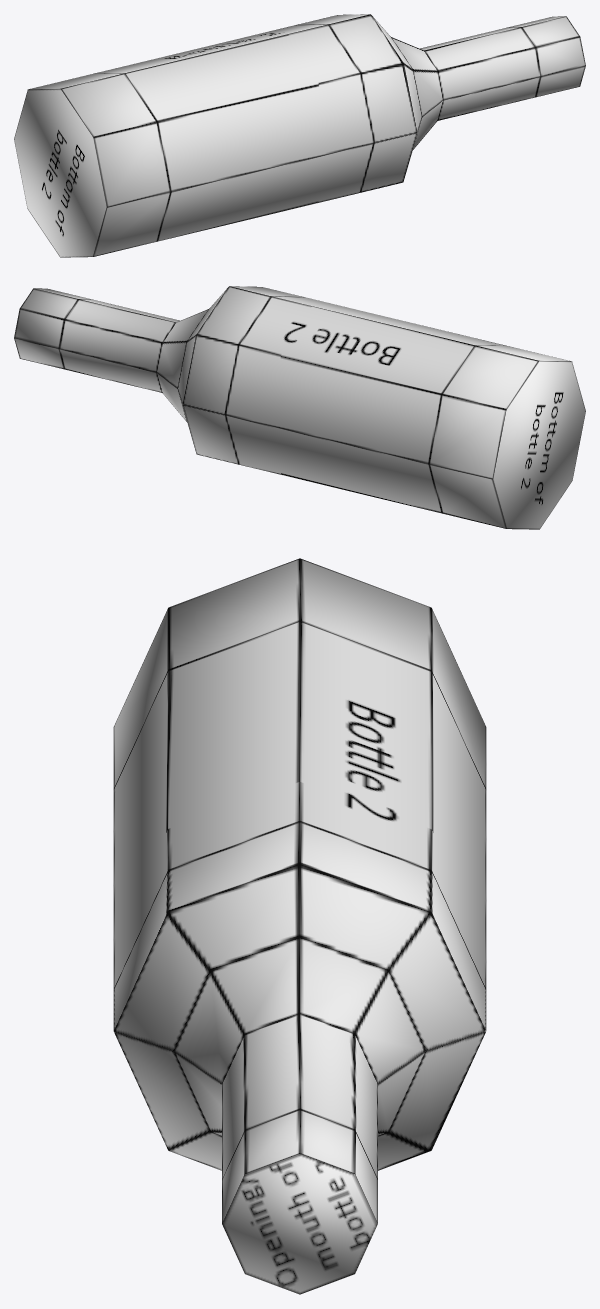
The model's file is Bottle02.fbx.
The picture shows the model from 3 angles, top to bottom: view 1: azimuth 30°, elevation 25°; view 2: azimuth 150°, elevation 25°; view 3: azimuth 270°, elevation 25°; orthographic projection. The views are drawn at different scales.
Visible parts, largest first — view 1: Bottle_02; view 2: Bottle_02; view 3: Bottle_02.
Part boxes in pixels (<box>): Bottle_02: <box>14,14,585,257</box>; Bottle_02: <box>14,286,585,529</box>; Bottle_02: <box>113,558,486,1294</box>.
Size of the model in its own units: 25.93 by 8.31 by 8.26.
1 material, 1 textured.
